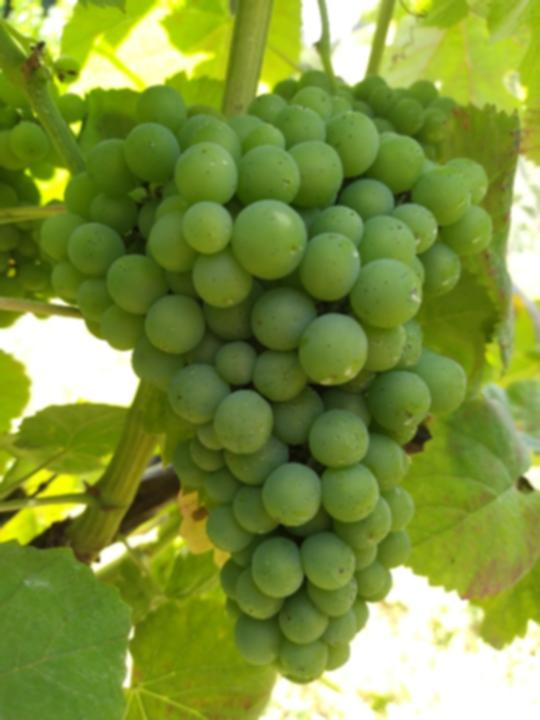grape: (40, 83, 493, 686)
